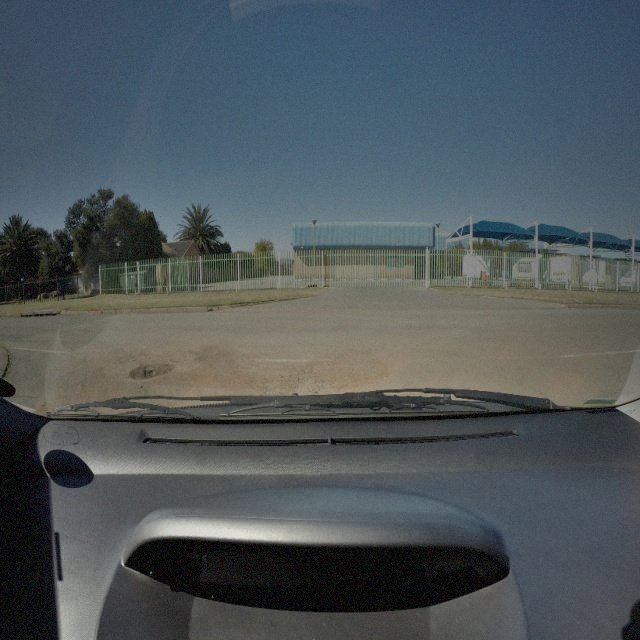pothole: (126, 360, 178, 379)
